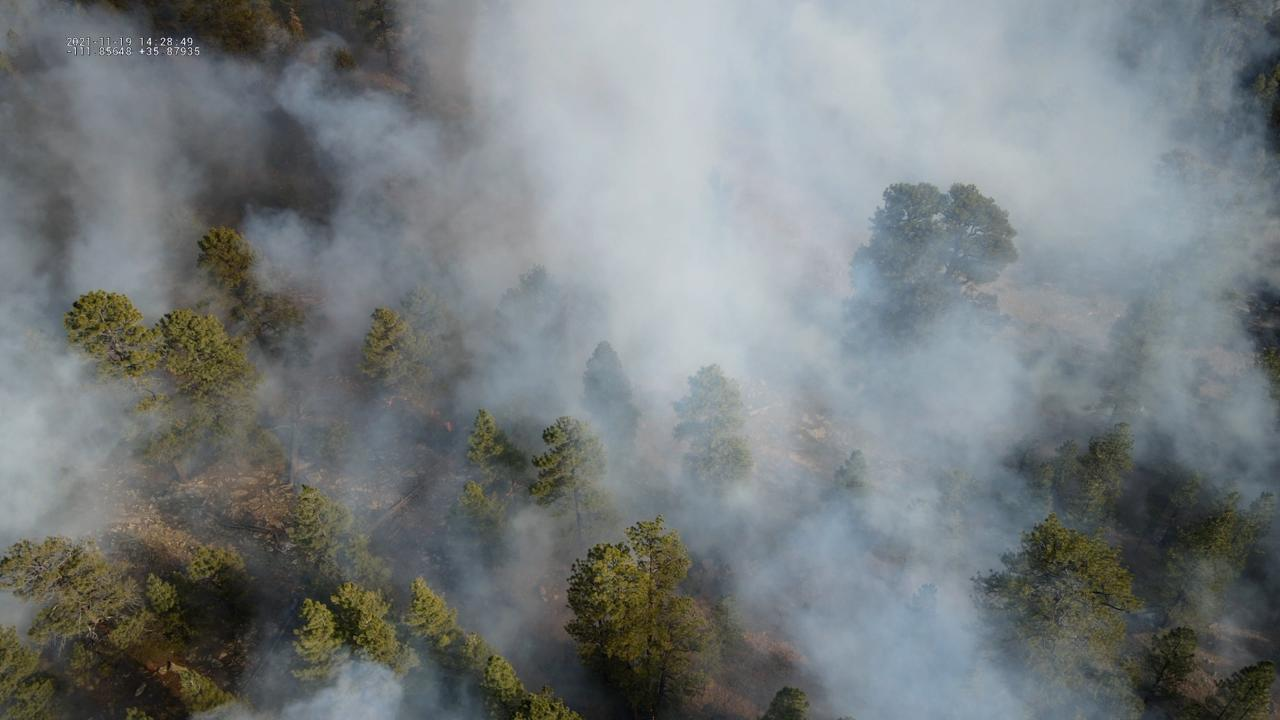fire: (381, 393, 442, 418), (445, 419, 454, 432)
smoke: (0, 0, 1280, 720)
